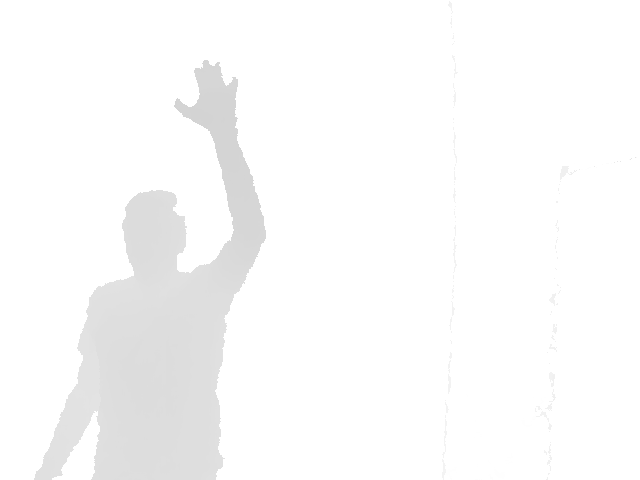hand: (174, 58, 240, 126)
head: (121, 189, 189, 282)
person: (31, 58, 268, 480)
